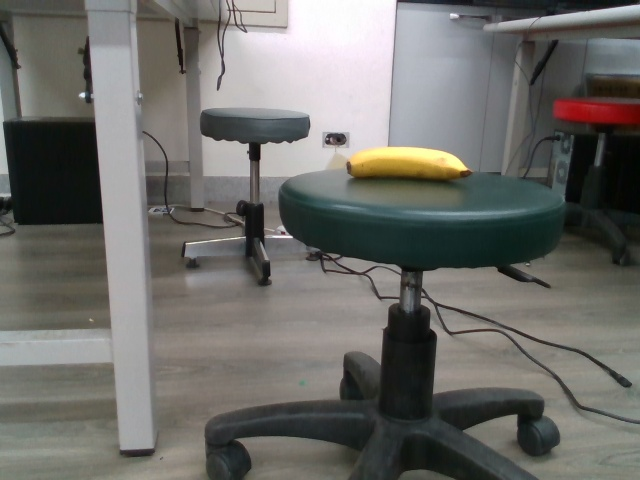banana: (347, 143, 477, 183)
